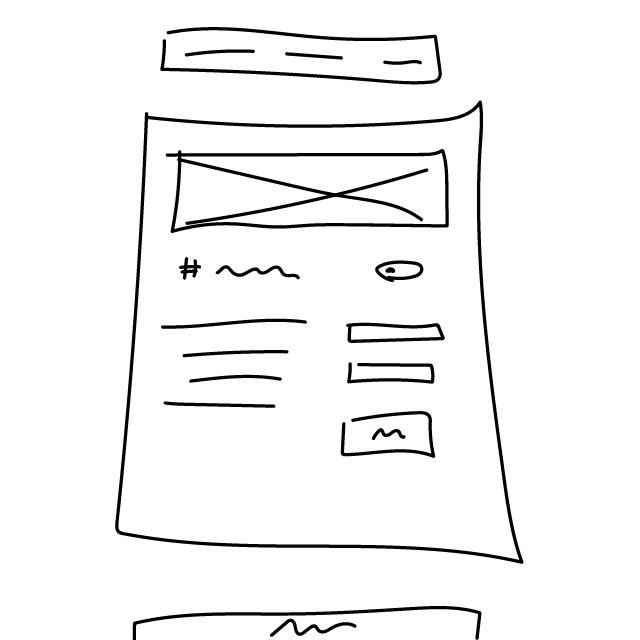button: (337, 408, 439, 464)
checkbox: (376, 256, 429, 285)
container: (100, 97, 538, 566)
footer: (120, 596, 488, 640)
frame: (166, 146, 457, 242)
heading: (179, 254, 303, 288)
input: (342, 355, 443, 390), (345, 320, 448, 349)
nav: (155, 24, 450, 88)
text: (158, 314, 312, 415)
